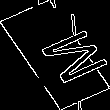M_SW: (14, 23, 96, 87)
